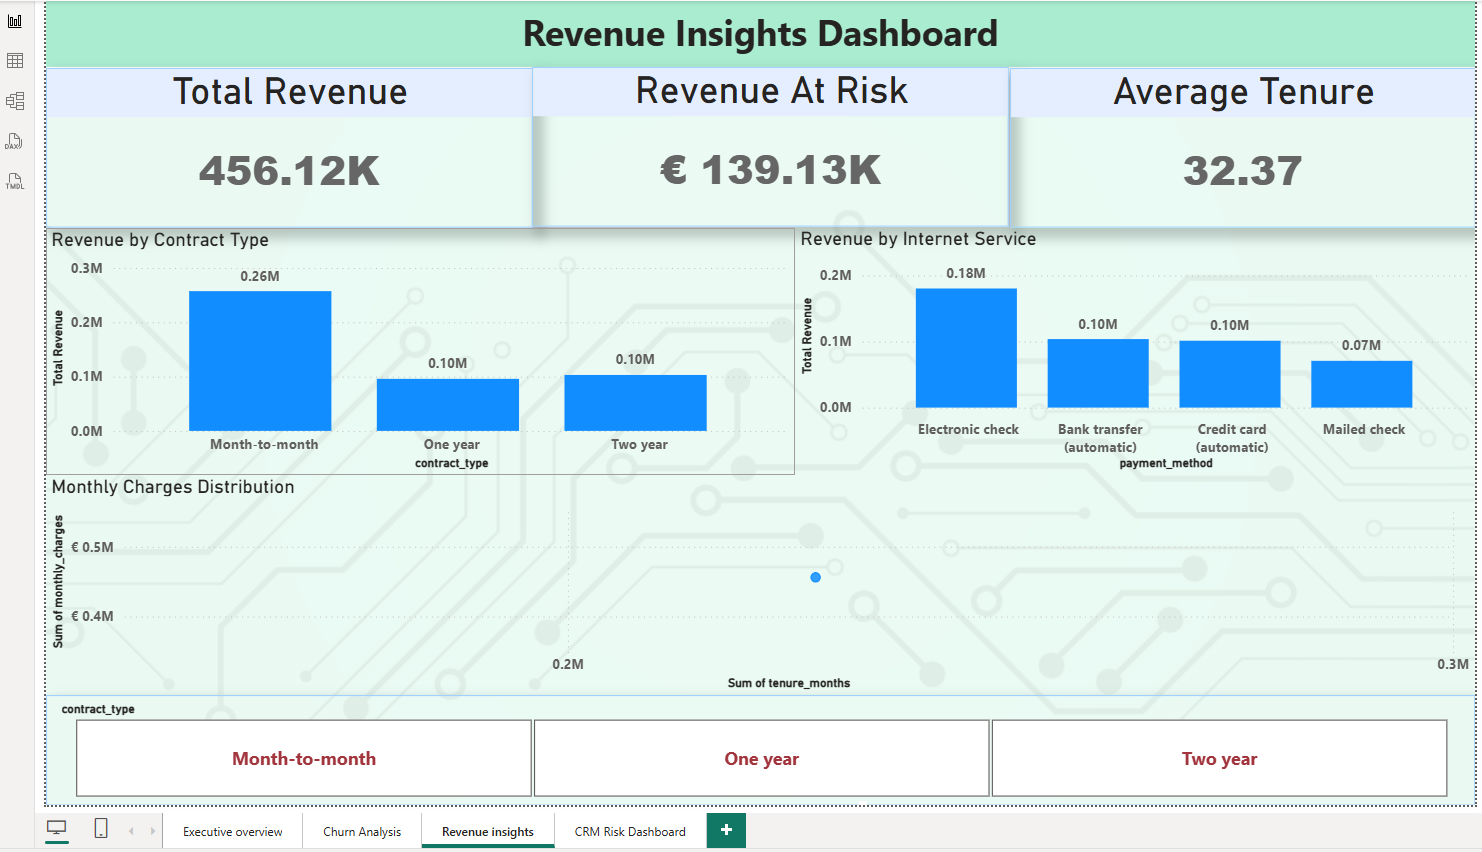

The dashboard page shown, as its layout file describes it:
{"tool":"powerbi","page":{"name":"Revenue insights","canvas":[1280,720],"ordinal":2},"visuals":[{"type":"textbox","box":[0,0,1279.7,59.4],"z":0},{"type":"card","title":"Total Revenue","fields":{"Values":["fact_customer_metrics.Total Revenue"]},"box":[0,59.9,435.6,143.5],"z":1000},{"type":"card","title":"Revenue At Risk","fields":{"Values":["fact_customer_metrics.Revenue At Risk"]},"box":[435.6,58.8,427.4,143.5],"z":2000},{"type":"card","title":"Average Tenure","fields":{"Values":["fact_customer_metrics.Average Tenure"]},"box":[863,59.9,417,143.5],"z":3000},{"type":"clusteredColumnChart","title":"Revenue by Contract Type","fields":{"Category":["dim_contract.contract_type"],"Y":["fact_customer_metrics.Total Revenue"]},"box":[0,203.4,671,220.9],"z":4000},{"type":"clusteredColumnChart","title":"Revenue by Internet Service","fields":{"Y":["fact_customer_metrics.Total Revenue"],"Category":["dim_contract.payment_method"]},"box":[671,202.3,609,221.9],"z":5000},{"type":"scatterChart","title":"Monthly Charges Distribution","fields":{"X":["Sum(fact_customer_metrics.tenure_months)"],"Y":["Sum(fact_customer_metrics.monthly_charges)"]},"box":[0,424.3,1280,197.2],"z":6000},{"type":"slicer","fields":{"Values":["dim_contract.contract_type"]},"box":[0,621.4,1280,99.1],"z":7000}]}

Visuals, with their boxes on the page's 1280x720 design canvas (x1, y1, x2, y2). These are canvas units, not pixel positions in the 1482x852 screenshot, which may show the page scaled, cropped or inside an application window:
textbox: box(0, 0, 1280, 59)
"Total Revenue" card: box(0, 60, 436, 203)
"Revenue At Risk" card: box(436, 59, 863, 202)
"Average Tenure" card: box(863, 60, 1280, 203)
"Revenue by Contract Type" clusteredColumnChart: box(0, 203, 671, 424)
"Revenue by Internet Service" clusteredColumnChart: box(671, 202, 1280, 424)
"Monthly Charges Distribution" scatterChart: box(0, 424, 1280, 622)
slicer - dim_contract.contract_type: box(0, 621, 1280, 720)
